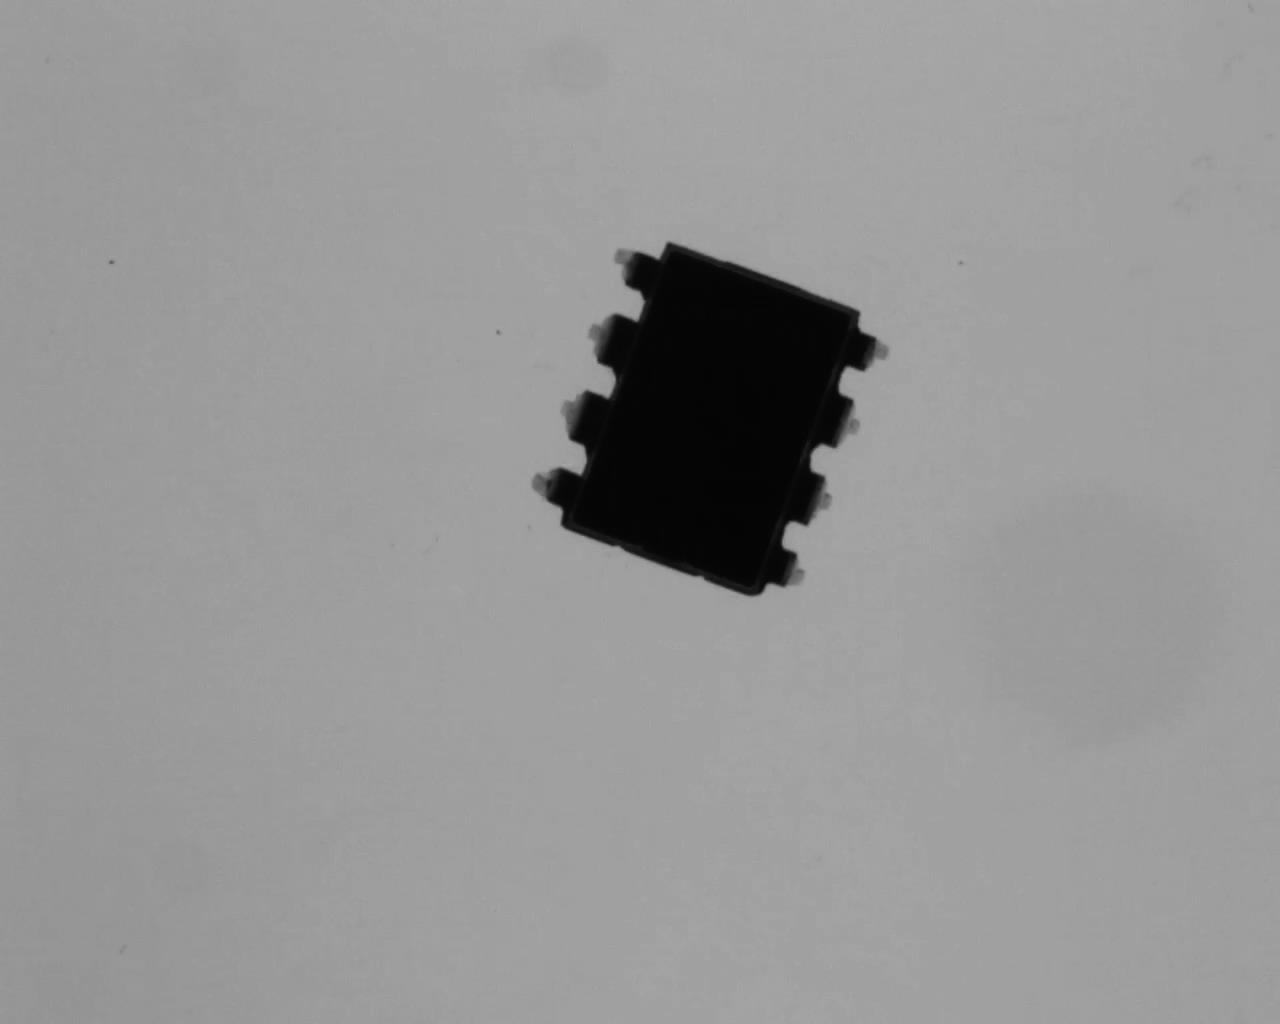Leg: (555, 388, 621, 450), (582, 307, 641, 371), (608, 238, 665, 299), (818, 389, 867, 456), (519, 467, 584, 514), (795, 467, 840, 533), (844, 330, 898, 385), (775, 541, 813, 592)
